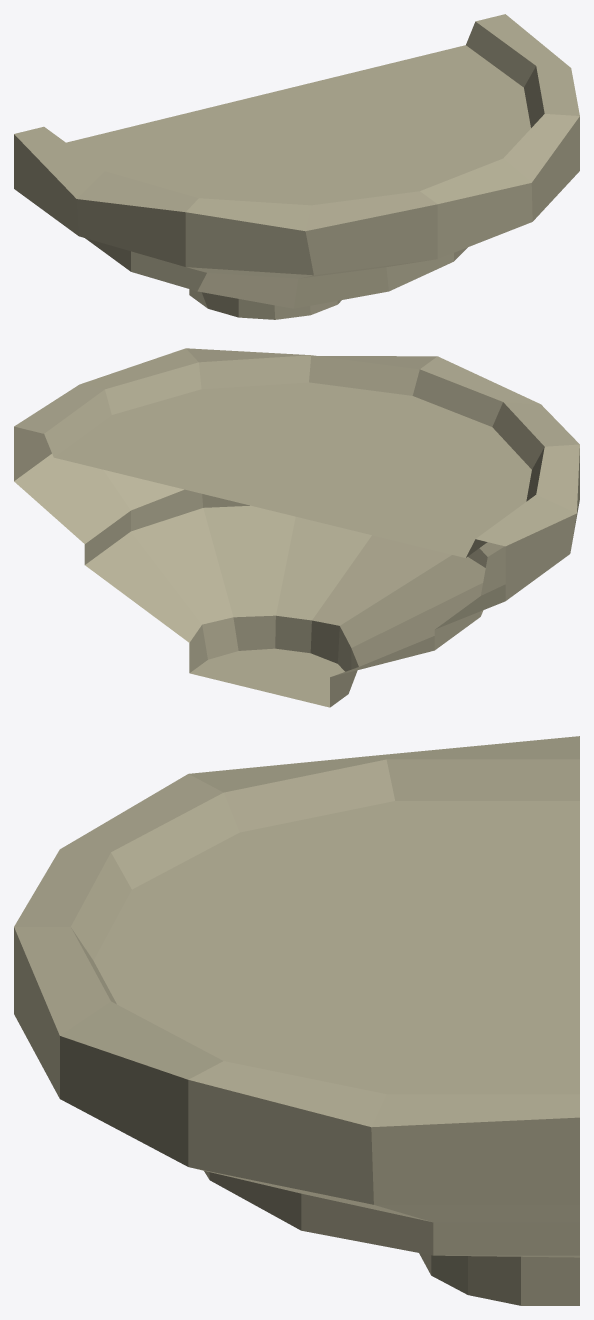
The model's file is Windowsill.fbx.
3 views of the same model, one above another, from view 1: azimuth 30°, elevation 25°; view 2: azimuth 150°, elevation 25°; view 3: azimuth 270°, elevation 25° (orthographic). The views are drawn at different scales.
Visible parts, largest first — view 1: Windowsill; view 2: Windowsill; view 3: Windowsill.
Part boxes in pixels (x1=…): Windowsill: x1=14, y1=14, x2=579, y2=319; Windowsill: x1=14, y1=348, x2=579, y2=707; Windowsill: x1=14, y1=736, x2=579, y2=1305.
Bounding box in the file's own units: 158 × 62.01 × 98.02.
